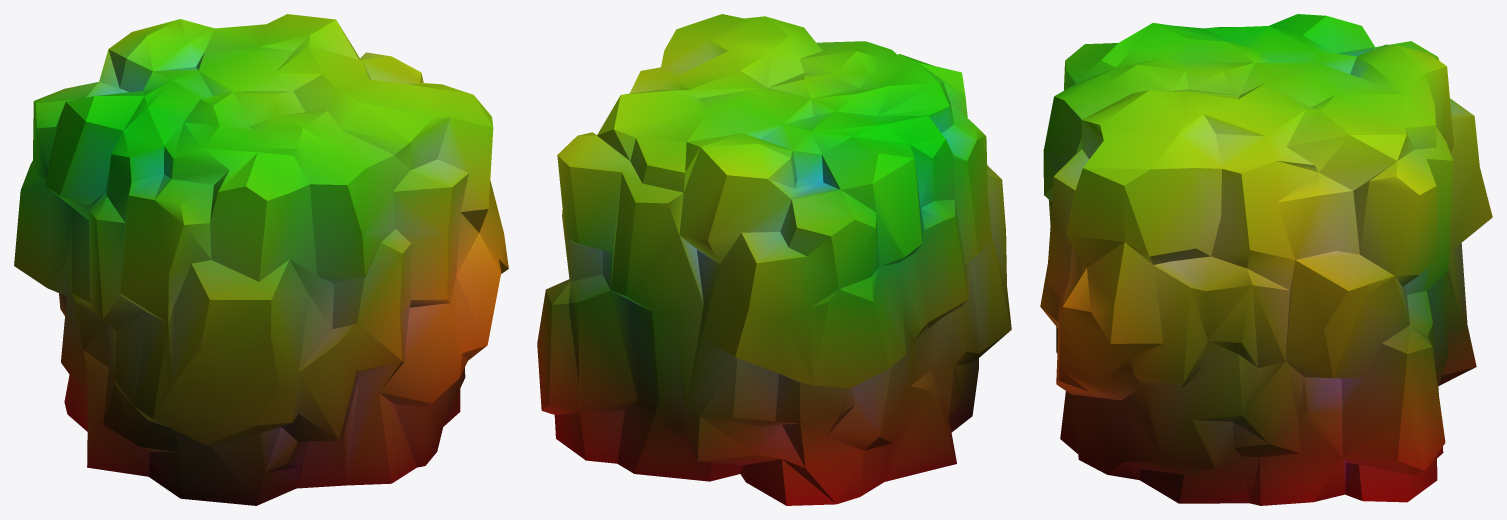
Rendered from MS_RockBig_03.fbx.
3 renders of one model, left to right at view 1: azimuth 30°, elevation 25°; view 2: azimuth 150°, elevation 25°; view 3: azimuth 270°, elevation 25°, orthographic. The views are drawn at different scales.
Visible parts, largest first — view 1: RockBig_03; view 2: RockBig_03; view 3: RockBig_03.
Boxes of the visible parts, x1,y1,x2,y2 form: RockBig_03: (14, 14, 508, 505); RockBig_03: (537, 14, 1011, 505); RockBig_03: (1040, 14, 1492, 505).
Size of the model in its own units: 8810 by 8227 by 9404.
